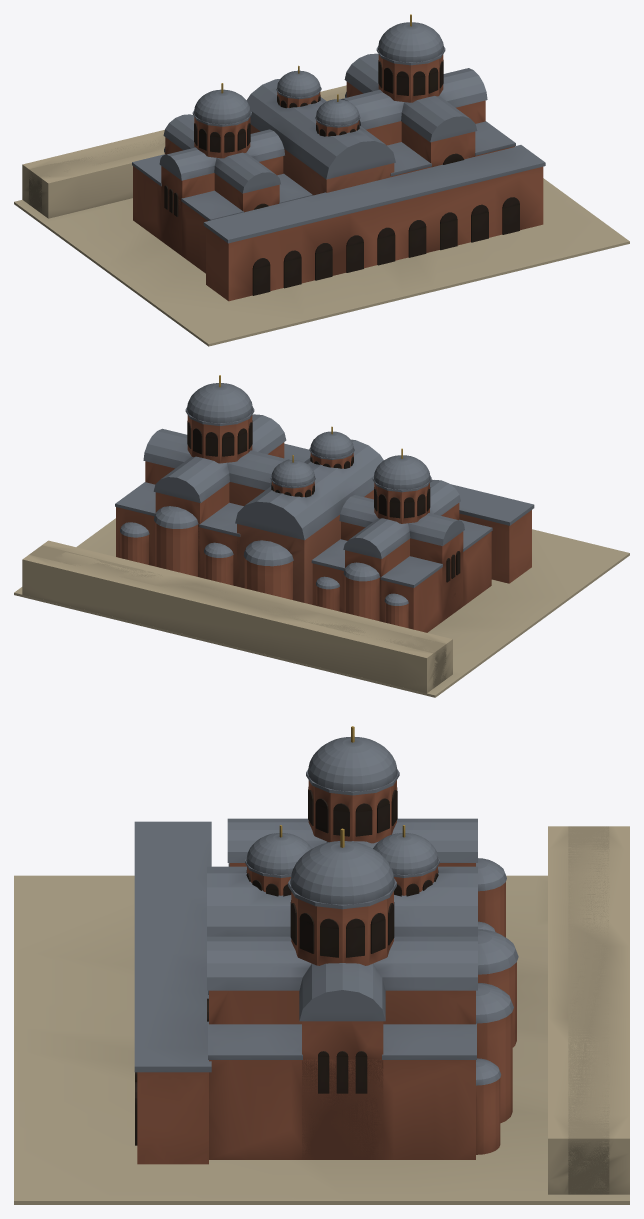
The model's file is pantokrator.glb.
3 renders of one model, top to bottom at view 1: azimuth 30°, elevation 25°; view 2: azimuth 150°, elevation 25°; view 3: azimuth 270°, elevation 25°, orthographic. The views are drawn at different scales.
Visible parts, largest first — view 1: p1_churches, p2_domes, p0_churches, p3_monastery; view 2: p1_churches, p3_monastery, p0_churches, p2_domes; view 3: p1_churches, p0_churches, p2_domes, p3_monastery.
Boxes of the visible parts, x1,y1,x2,y2 form: p1_churches: [132, 14, 515, 273]; p2_domes: [203, 65, 545, 301]; p0_churches: [14, 178, 629, 346]; p3_monastery: [22, 85, 346, 218]; p1_churches: [115, 375, 492, 632]; p3_monastery: [22, 540, 452, 693]; p0_churches: [14, 518, 629, 697]; p2_domes: [243, 426, 534, 599]; p1_churches: [207, 726, 513, 1159]; p0_churches: [14, 875, 629, 1204]; p2_domes: [134, 821, 518, 1164]; p3_monastery: [548, 826, 629, 1194].
Size of the model in its own units: 75 by 30.8 by 60.
